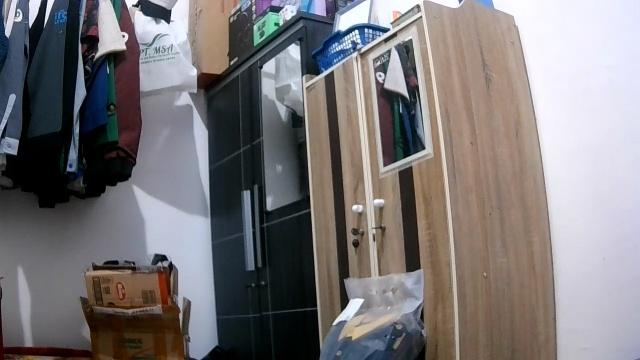Lemari: (304, 0, 558, 359), (204, 7, 321, 359)
